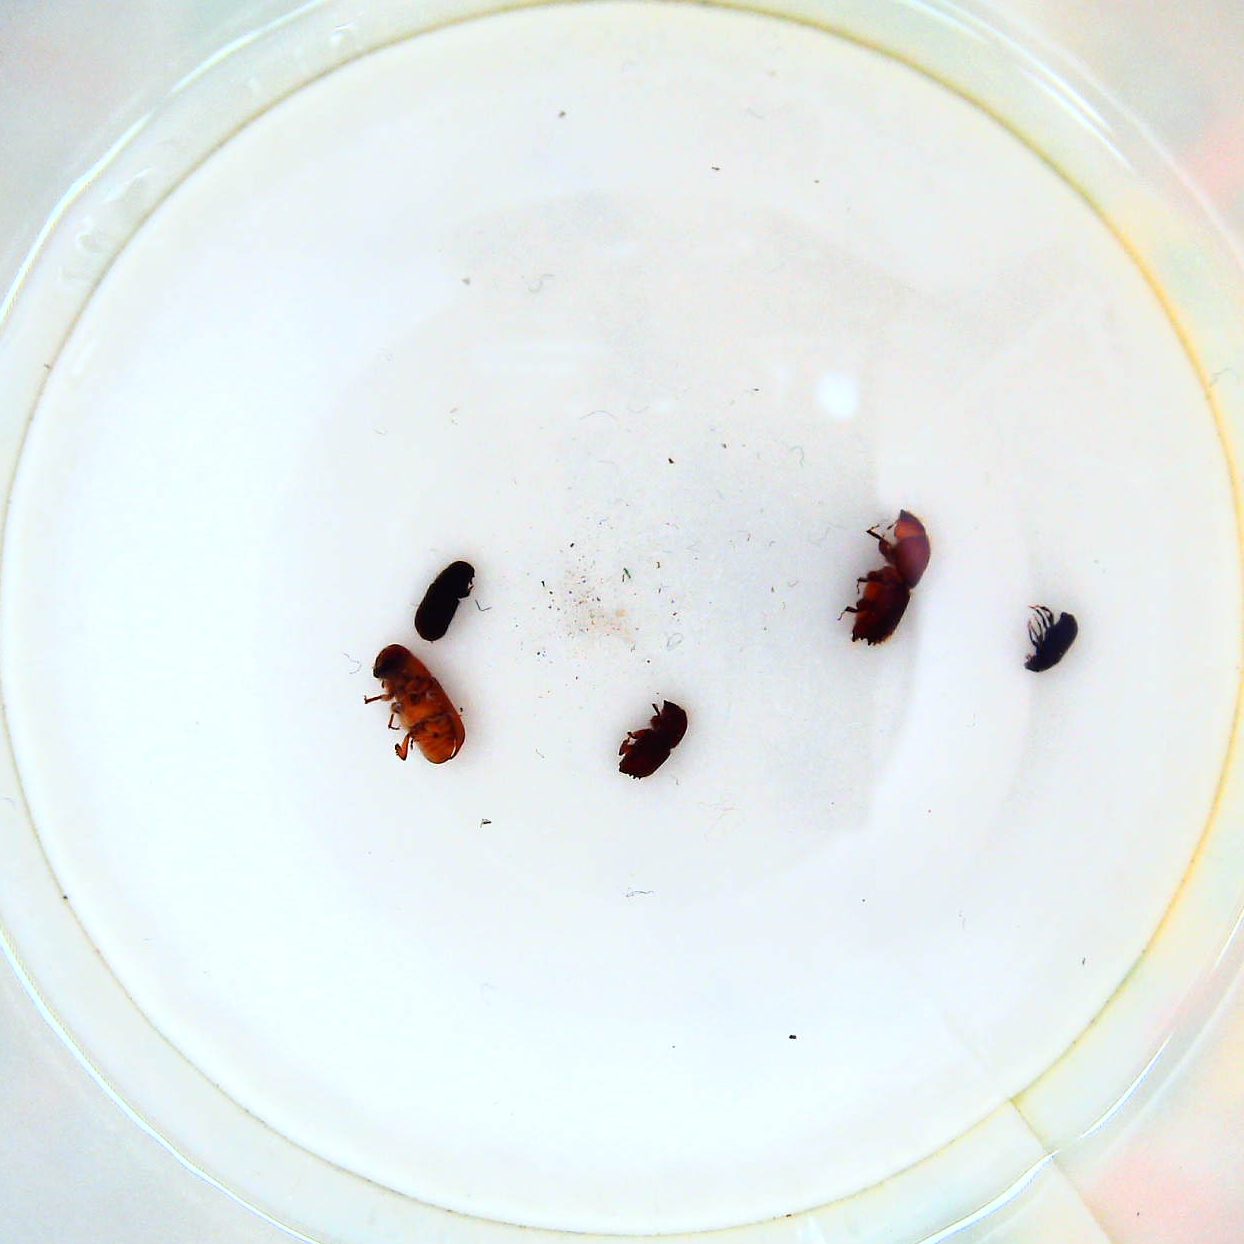Boerner: (838, 496, 941, 657)
Leconte: (357, 643, 475, 769)
armandi: (409, 553, 482, 643)
coleoptera: (1021, 594, 1085, 676)
linnaeus: (614, 696, 691, 784)
